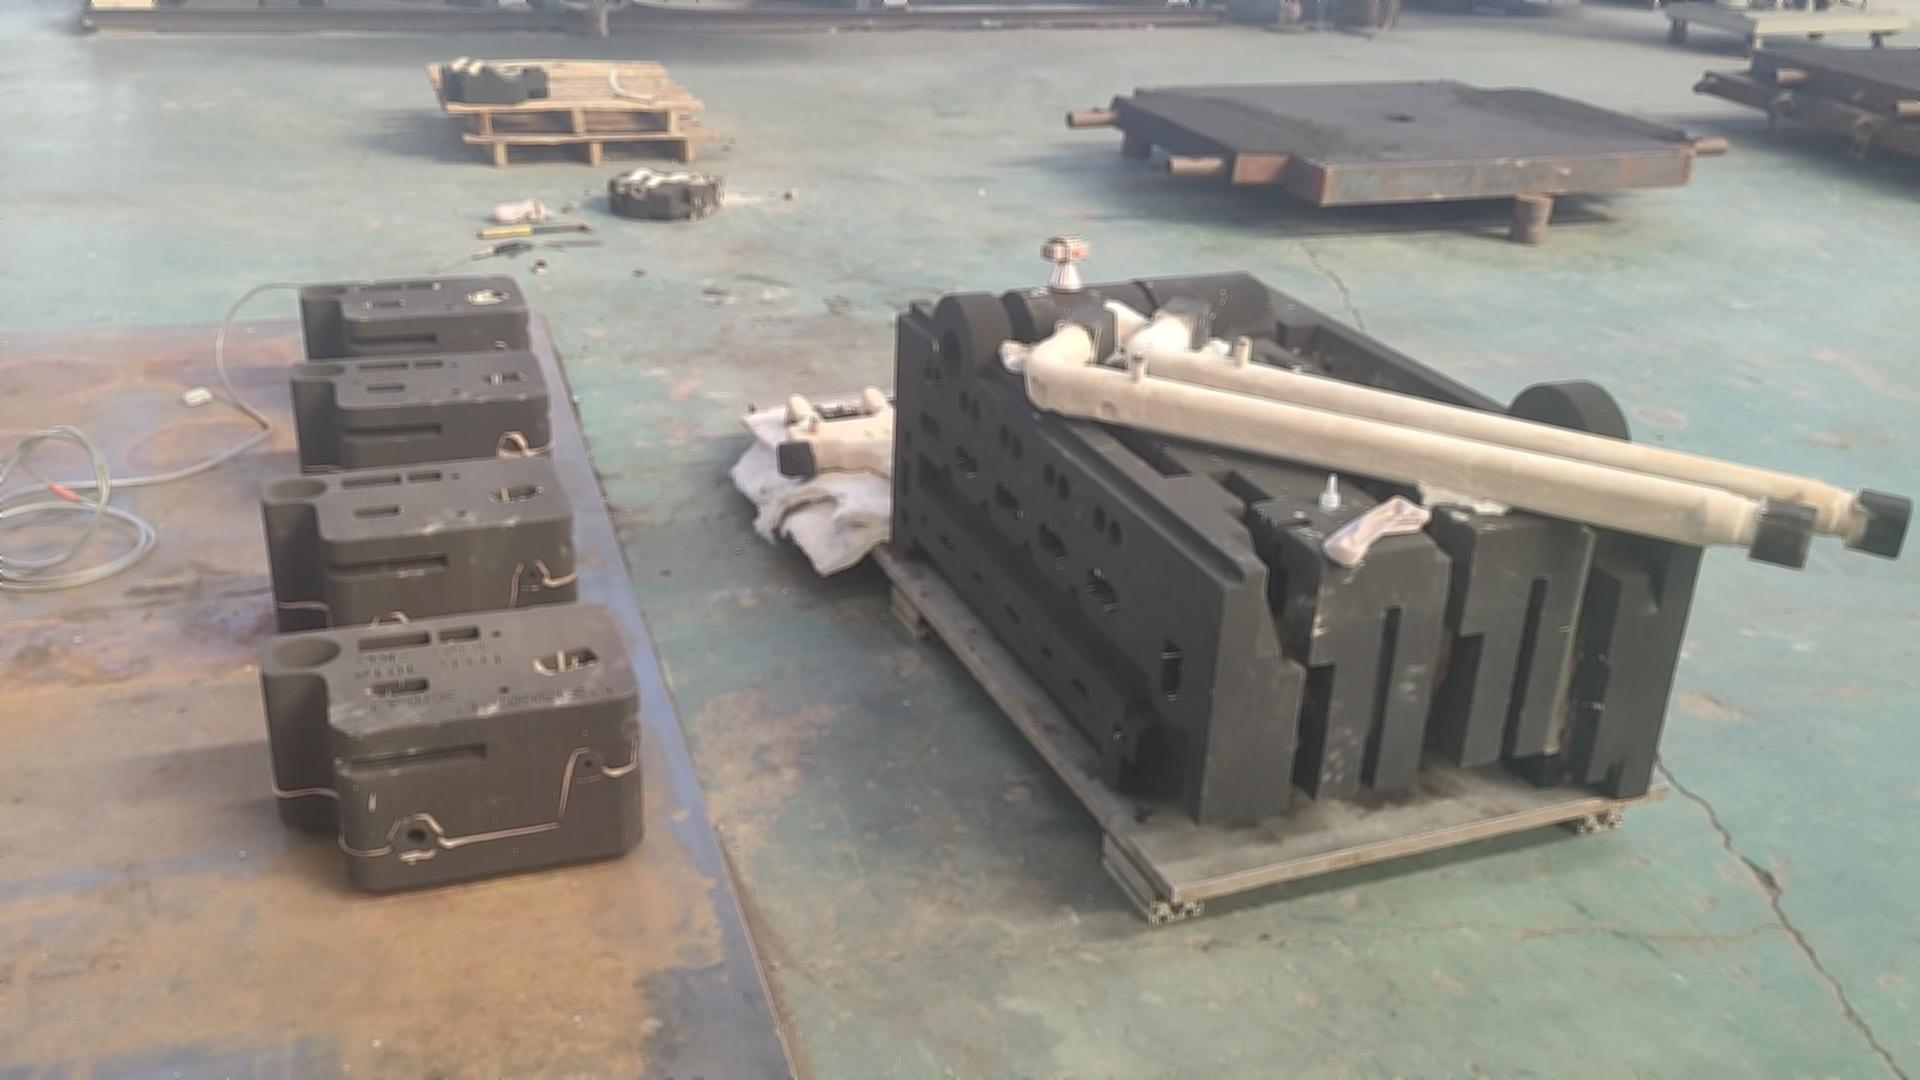pouring hole: (270, 636, 344, 670), (934, 328, 967, 384), (262, 477, 332, 501), (291, 363, 345, 378), (302, 284, 349, 298)
